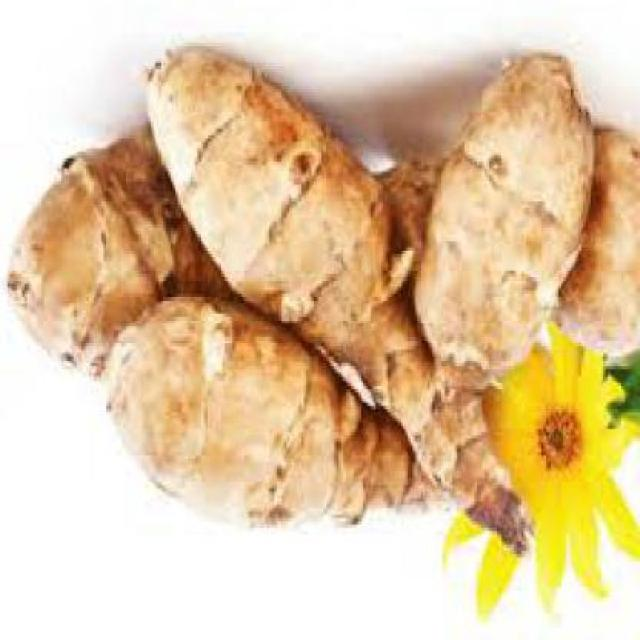BIODEGRADABLE: (148, 47, 532, 561), (109, 290, 536, 561), (416, 57, 598, 481), (10, 128, 242, 382), (444, 323, 638, 622), (556, 132, 639, 360), (373, 164, 442, 290)
